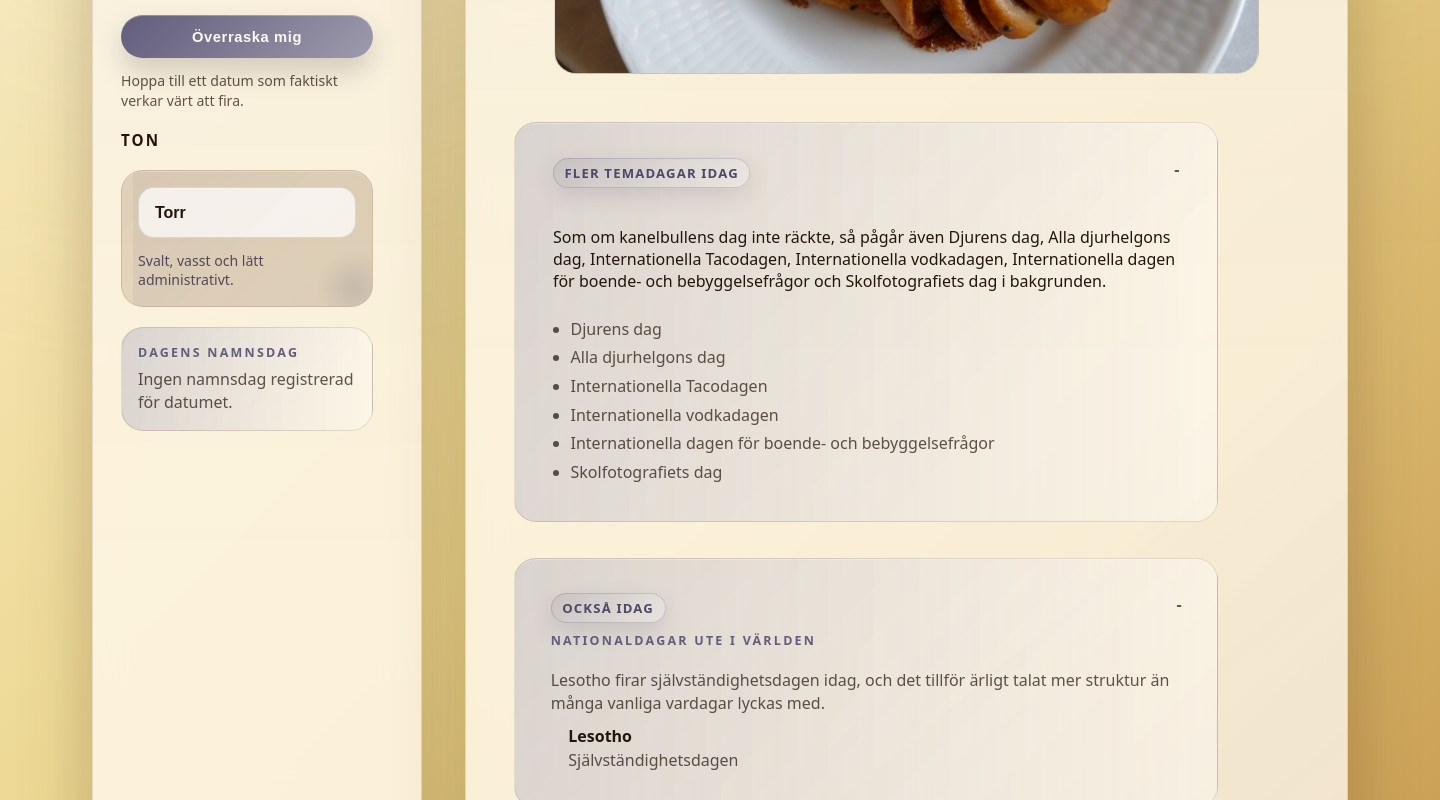
allows collapsing the extra theme-day panel from its own heading
(page scrolled)
Expected: the text "Internationella Tacodagen" is shown, [553, 226, 1175, 292]
Click the button "Fler temadagar idag -": point(652, 173) [538, 145, 1195, 198]
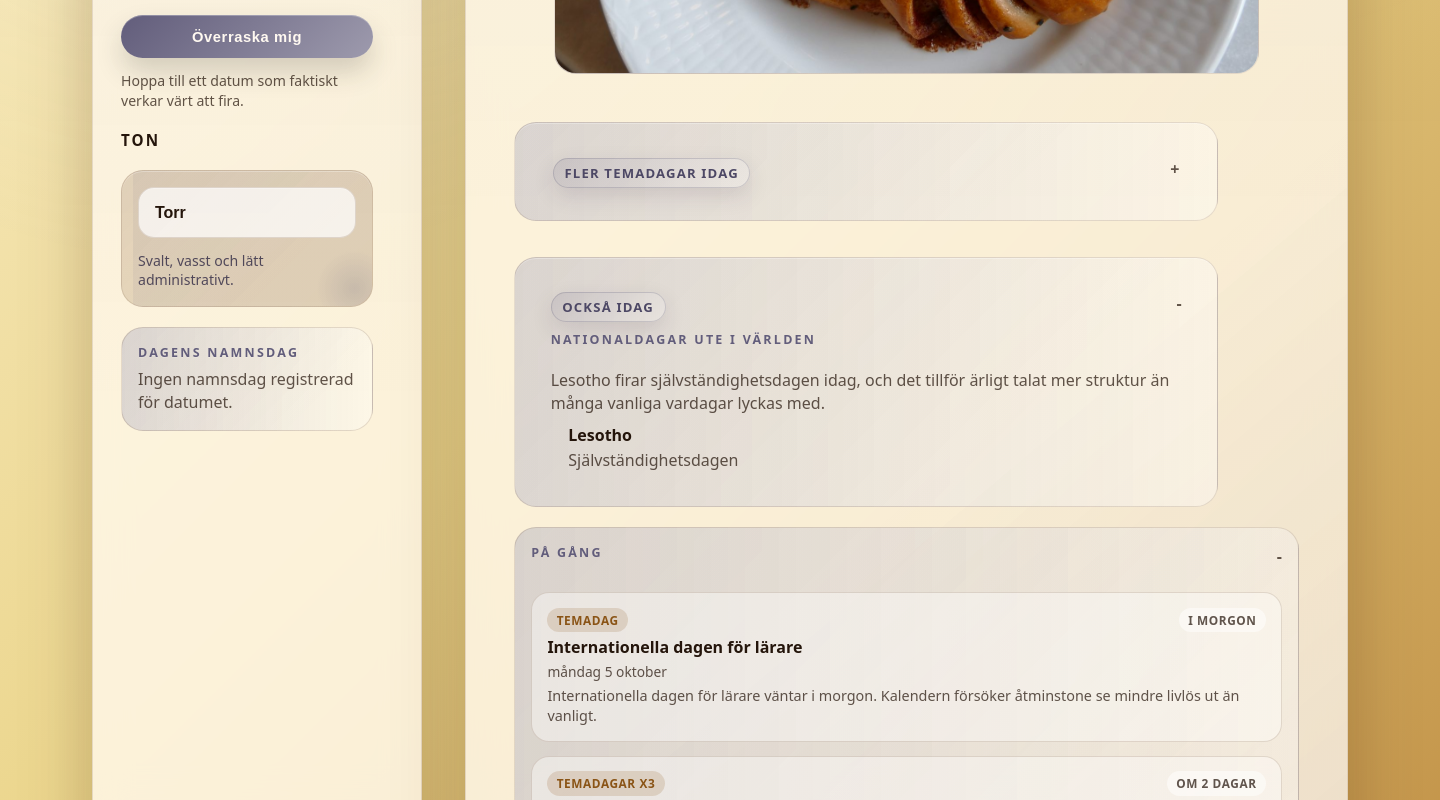
Now the text "Internationella Tacodagen" is gone
Click the button "Fler temadagar idag +": point(652, 173) [538, 145, 1195, 198]
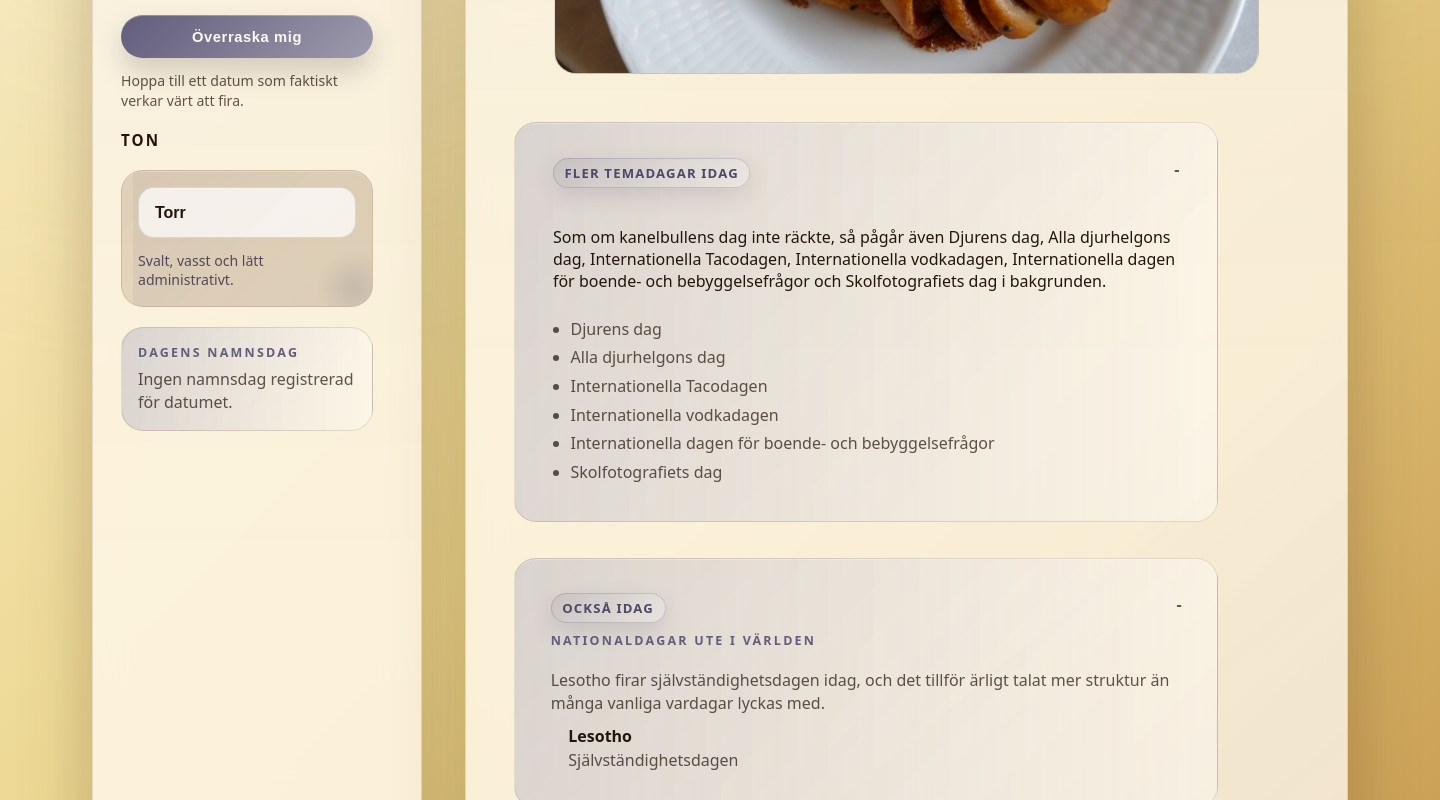
Now the text "Internationella Tacodagen" is shown, box [553, 226, 1175, 292]
